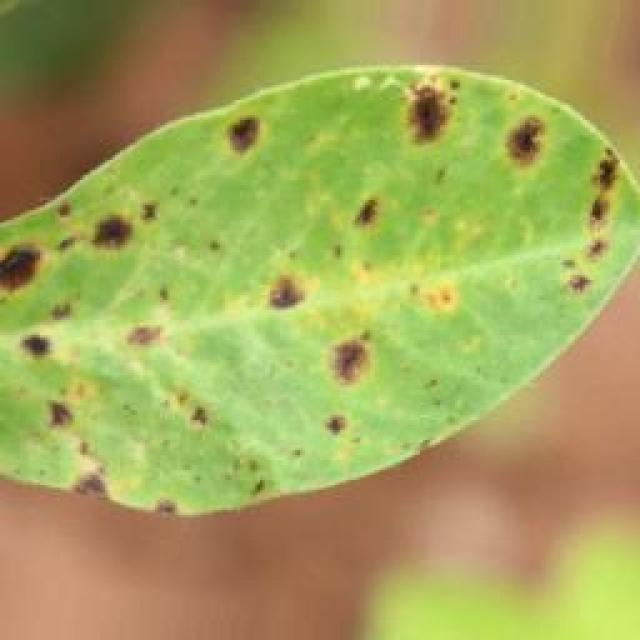Yellowish: (15, 85, 609, 464)
